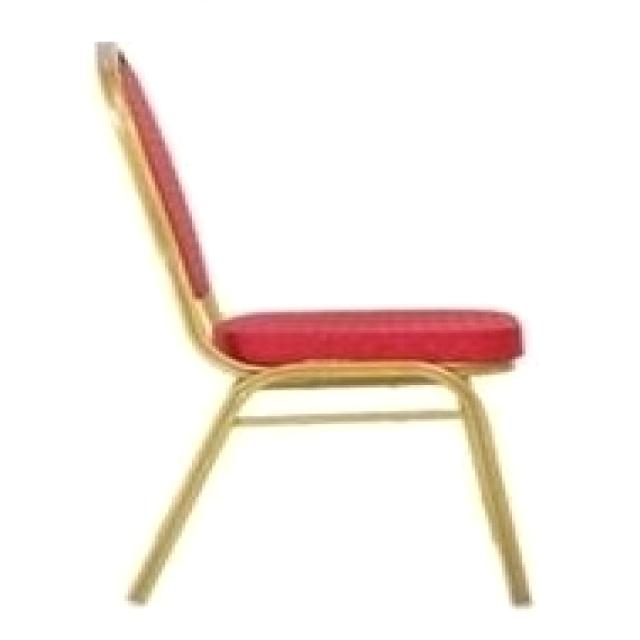Chair: (89, 40, 543, 612)
